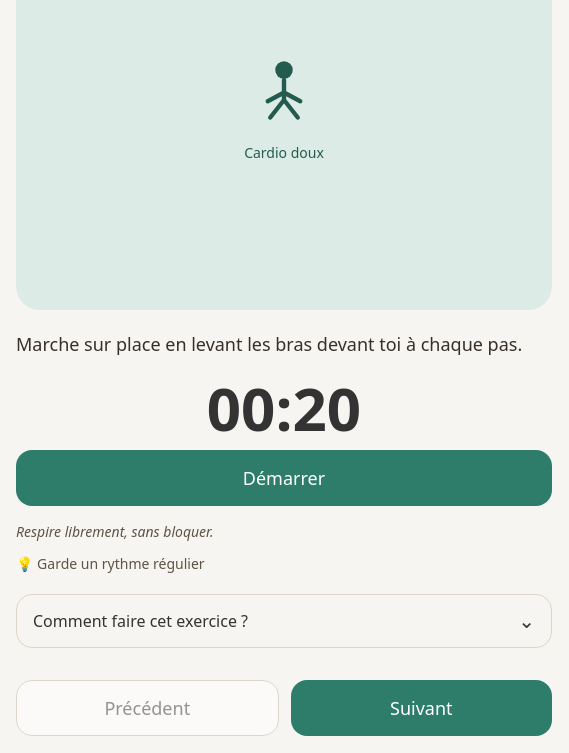
Scenario: WorkoutPlayerPage progression › disables 'Précédent' on the first exercise and re-enables it after moving forward
(page scrolled)
Expected: the button "Précédent" is disabled, [16,680,279,736]
Step 1. Click the button "Suivant" → (421, 708), box [291,680,552,736]
(page scrolled)
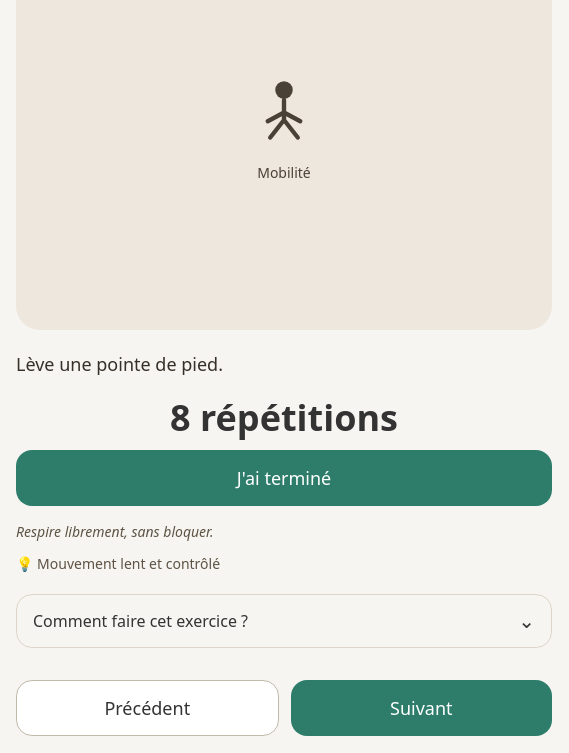
Result: the button "Précédent" is enabled at [16,680,279,736]
